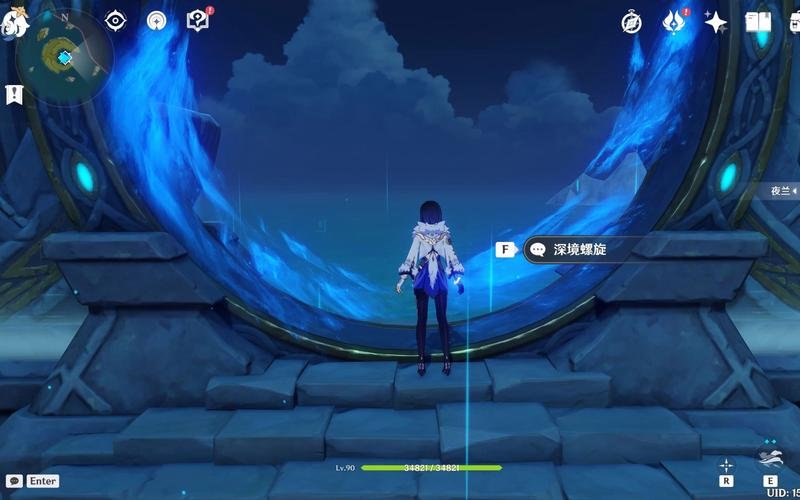夜兰: (391, 196, 474, 379)
